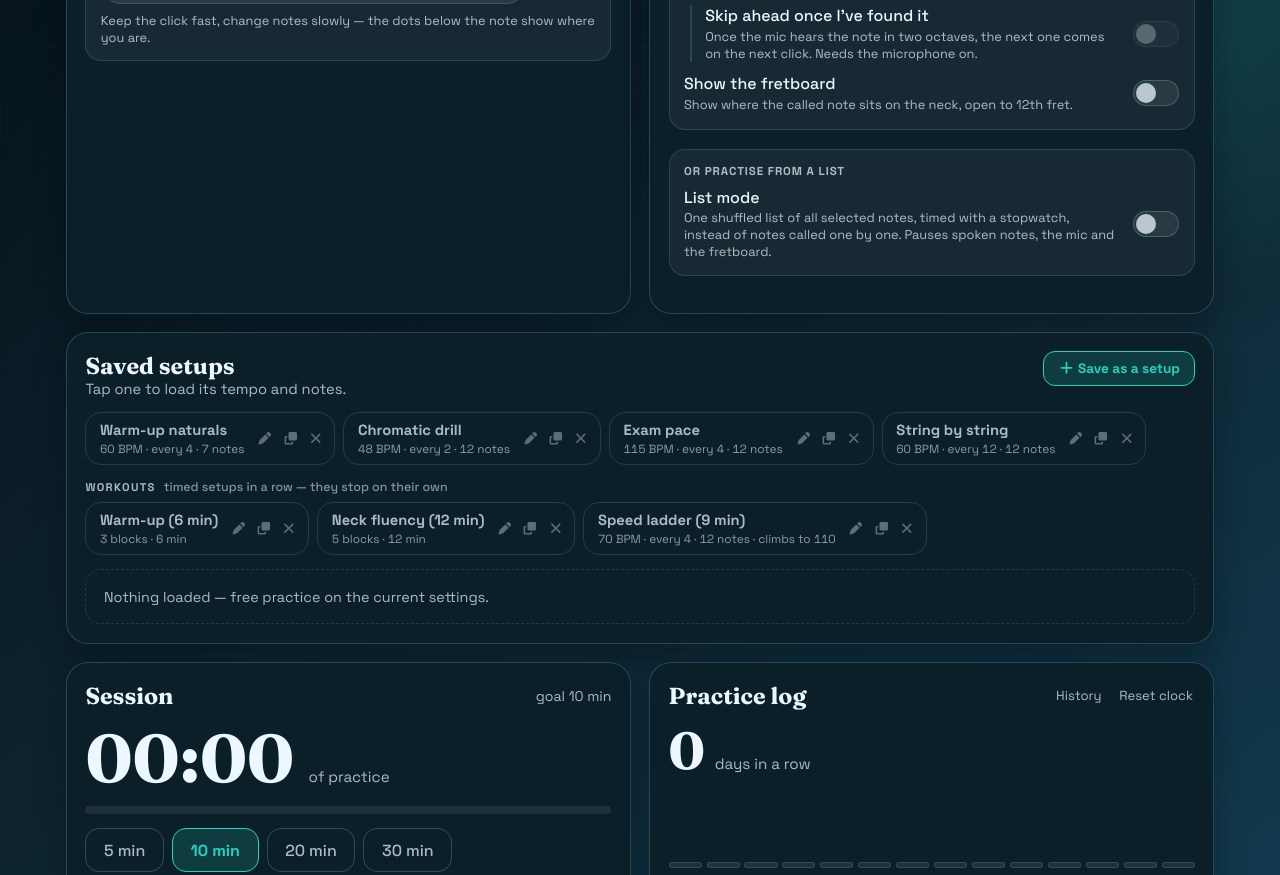
Test: Routines › applies block 0 on selection and names the start button
The image size is (1280, 875).
(page scrolled)
Click the button "Warm-up naturals 60 BPM · every 4 · 7 notes" at [169, 438], box top-left (86, 413), bottom-right (251, 464)
(page scrolled)
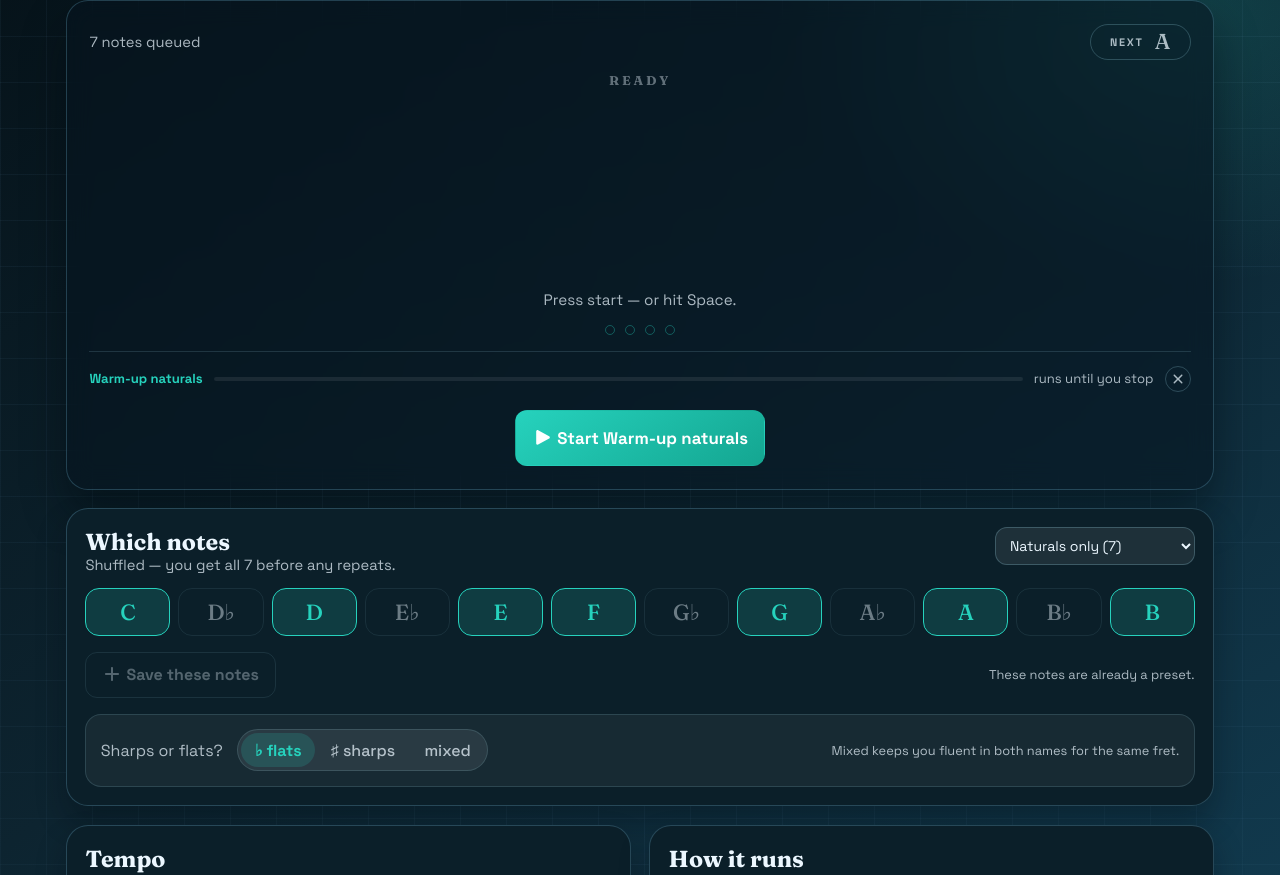
Expected: the radio button labelled "♭ flats" is shown, top-left (241, 733), bottom-right (315, 767)
Expected: the dropdown with test id "preset-select" shows "Naturals only (7)", top-left (995, 527), bottom-right (1195, 565)
Expected: the button with test id "play-toggle" reads "Start Warm-up naturals", top-left (515, 410), bottom-right (765, 466)
